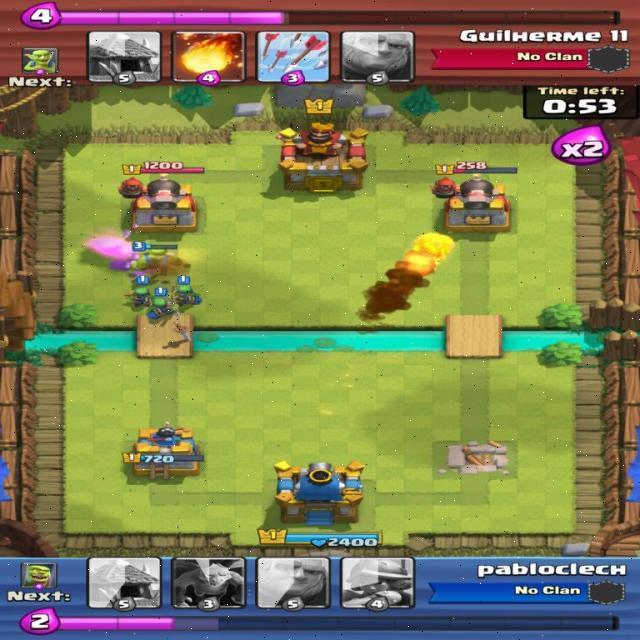ECannoneerTower: (131, 178, 197, 232), (444, 179, 510, 231)
EKingTower: (279, 123, 368, 192)
OBrawler: (131, 251, 188, 279)
OSpearGoblin: (174, 275, 201, 310), (147, 288, 171, 320), (130, 287, 149, 311)
OwnKingTower: (274, 461, 363, 524)
OwnPrincessTower: (131, 427, 203, 474)
TowerDown: (434, 443, 514, 476)
ofireball: (361, 232, 453, 318)
